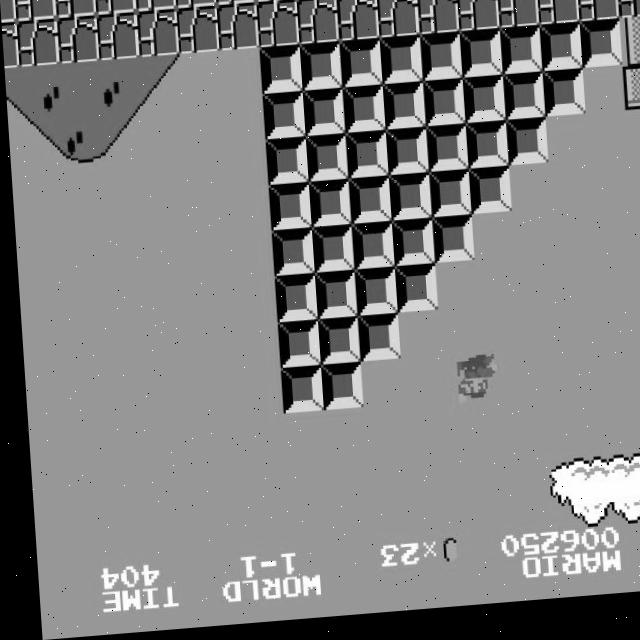11- little_mario: (450, 361, 496, 412)
14- pipe: (619, 28, 640, 76)
15- pipe_head: (621, 74, 640, 121)
17- undestructible_block: (296, 1, 339, 50), (216, 6, 259, 55), (136, 11, 179, 60), (56, 16, 99, 65), (16, 19, 59, 68), (256, 4, 299, 52), (176, 9, 219, 57), (96, 14, 139, 62), (336, 0, 379, 47), (376, 0, 419, 45), (416, 0, 459, 42), (456, 0, 499, 39), (496, 0, 539, 37), (536, 0, 579, 34), (576, 0, 619, 32), (15, 0, 57, 22), (54, 0, 97, 20), (1, 22, 19, 68), (94, 0, 137, 17), (616, 0, 640, 30), (134, 0, 177, 14), (174, 0, 217, 12), (214, 0, 257, 9), (0, 0, 16, 23), (254, 0, 297, 7), (294, 0, 337, 4), (334, 0, 377, 2)
9- hard_block: (578, 29, 622, 78), (540, 77, 584, 126), (498, 34, 542, 83), (460, 82, 504, 131), (425, 176, 469, 225), (418, 39, 462, 88), (385, 179, 429, 228), (380, 87, 424, 136), (378, 42, 422, 91), (352, 318, 396, 367), (345, 181, 389, 230), (340, 90, 384, 139), (338, 44, 382, 93), (312, 321, 356, 370), (305, 184, 349, 233), (298, 47, 342, 96), (260, 95, 304, 144), (538, 32, 582, 80), (500, 80, 544, 128), (465, 174, 509, 222), (458, 37, 502, 85), (420, 85, 464, 133), (300, 93, 344, 141), (272, 324, 316, 372), (265, 187, 309, 235), (258, 50, 302, 98), (390, 270, 433, 319), (350, 273, 393, 322), (270, 278, 313, 327), (503, 126, 546, 174), (423, 131, 466, 179), (388, 225, 431, 273), (383, 134, 426, 182), (348, 228, 391, 276), (343, 136, 386, 184), (310, 276, 353, 324), (303, 139, 346, 187), (275, 370, 318, 418), (268, 233, 311, 281), (463, 129, 506, 176), (428, 223, 471, 270), (315, 368, 358, 415), (308, 231, 351, 278), (263, 142, 306, 189)
